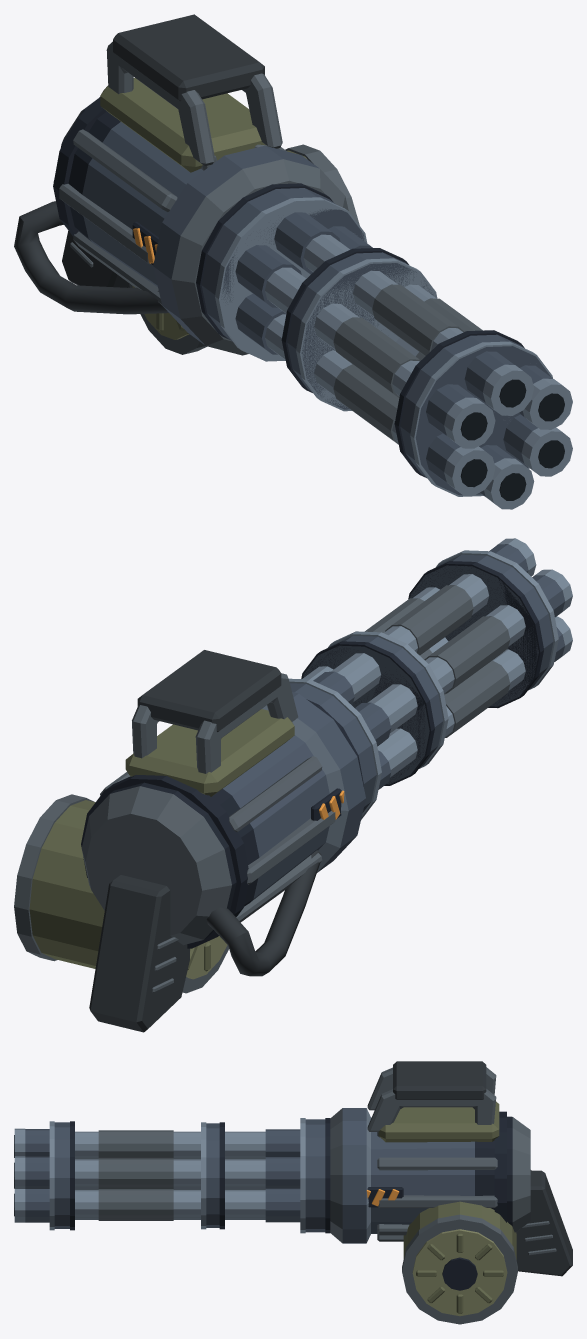
The model's file is Minigun.glb.
3 views of the same model, one above another, from view 1: azimuth 30°, elevation 25°; view 2: azimuth 150°, elevation 25°; view 3: azimuth 270°, elevation 25° (orthographic). The views are drawn at different scales.
Parts seen in each view (by area): view 1: Rotor, Main, FeedDrum; view 2: Main, Rotor, FeedDrum; view 3: Main, Rotor, FeedDrum.
Boxes of the visible parts, x1=… form: Rotor: x1=196, y1=183, x2=572, y2=509; Main: x1=14, y1=14, x2=348, y2=355; FeedDrum: x1=129, y1=144, x2=359, y2=354; Main: x1=81, y1=650, x2=365, y2=1032; Rotor: x1=289, y1=538, x2=572, y2=819; FeedDrum: x1=14, y1=794, x2=228, y2=993; Main: x1=330, y1=1061, x2=572, y2=1276; Rotor: x1=14, y1=1118, x2=330, y2=1233; FeedDrum: x1=402, y1=1201, x2=517, y2=1324.
Bounding box in the file's own units: 1.34 × 1.49 × 3.71.
1 material, 1 textured.
